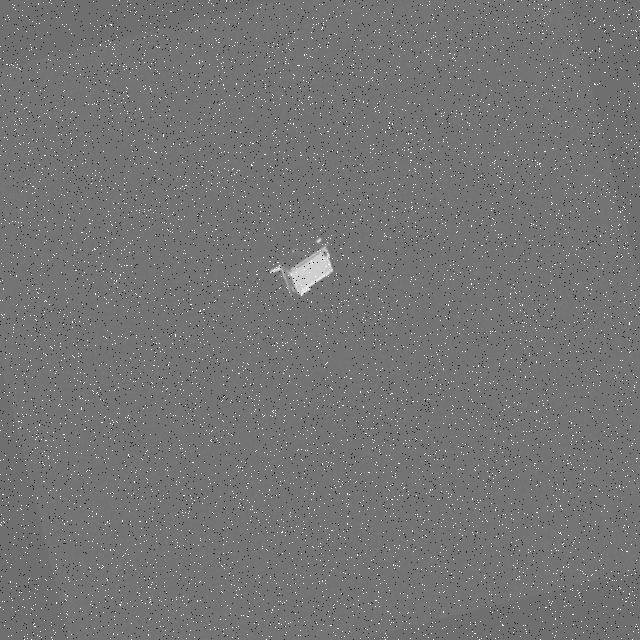medium_debris: (256, 234, 340, 306)
